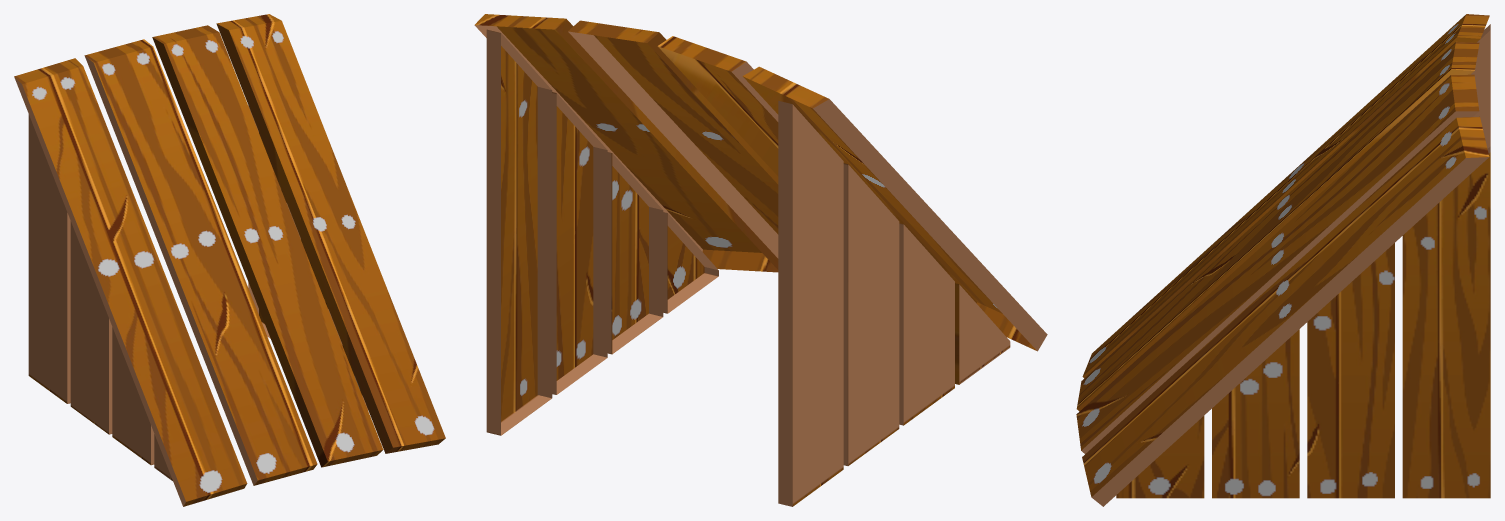
Rendered from ramp.fbx.
The picture shows the model from 3 angles, left to right: view 1: azimuth 30°, elevation 25°; view 2: azimuth 150°, elevation 25°; view 3: azimuth 270°, elevation 25°; orthographic projection. The views are drawn at different scales.
Visible parts, largest first — view 1: ramp; view 2: ramp; view 3: ramp.
Boxes of the visible parts, x1=… form: ramp: x1=14, y1=14, x2=445, y2=506; ramp: x1=474, y1=14, x2=1047, y2=506; ramp: x1=1076, y1=14, x2=1490, y2=506.
Bounding box in the file's own units: 0.8959 × 1.08 × 1.05.
